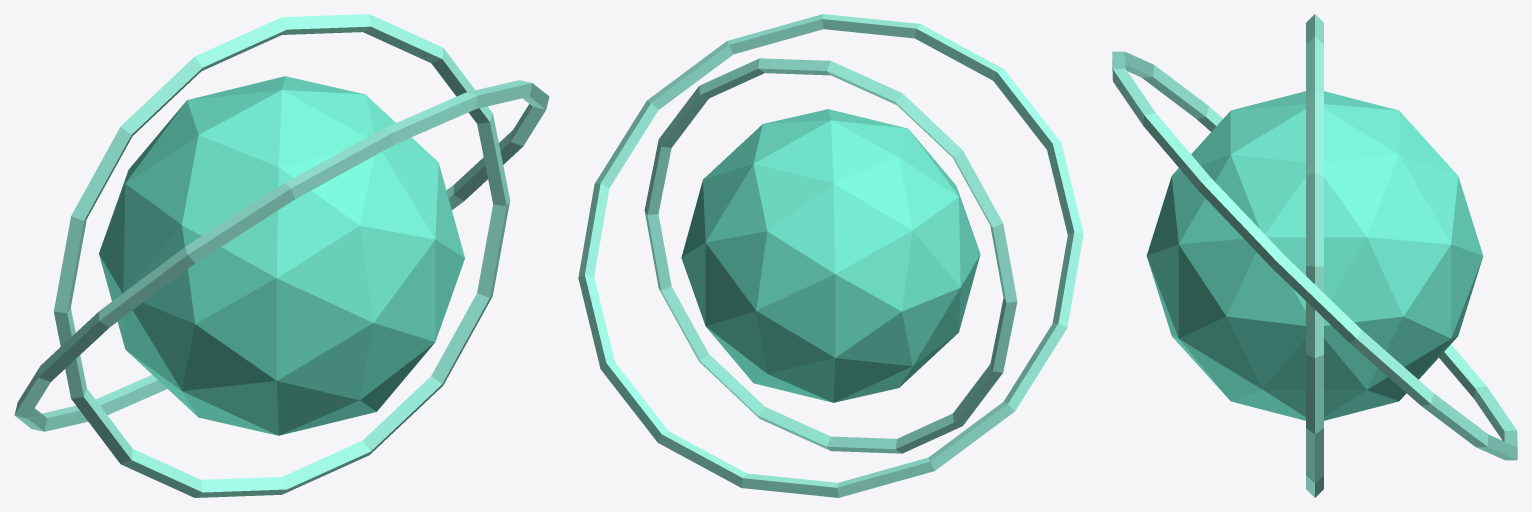
The model's file is air-node.glb.
The picture shows the model from 3 angles, left to right: view 1: azimuth 30°, elevation 25°; view 2: azimuth 150°, elevation 25°; view 3: azimuth 270°, elevation 25°; orthographic projection. The views are drawn at different scales.
Visible parts, largest first — view 1: orb, r0, r1; view 2: orb, r1, r0; view 3: orb, r1, r0.
Boxes of the visible parts, x1,y1,x2,y2 form: orb: (99,76,464,435); r0: (53,14,510,497); r1: (14,80,549,431); orb: (681,109,980,402); r1: (578,14,1083,497); r0: (644,58,1017,453); orb: (1146,91,1483,420); r1: (1112,51,1517,460); r0: (1306,14,1323,497).
Bounding box in the file's own units: 2.18 × 1.87 × 1.57.
